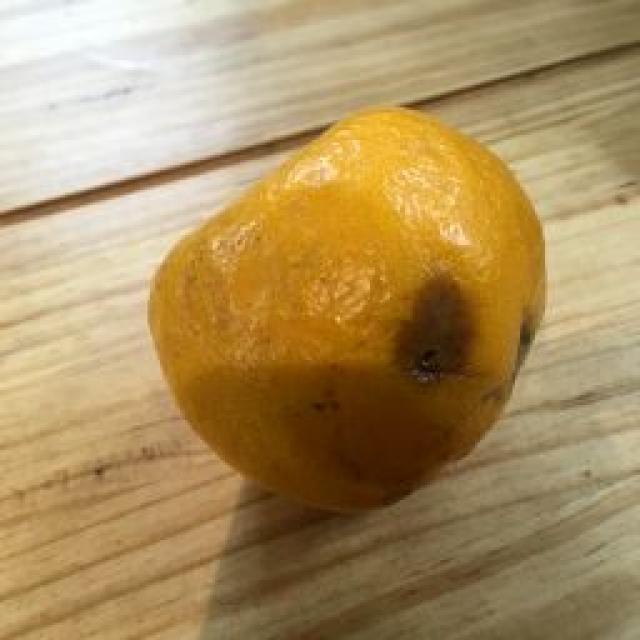Wet: (130, 100, 552, 530)
